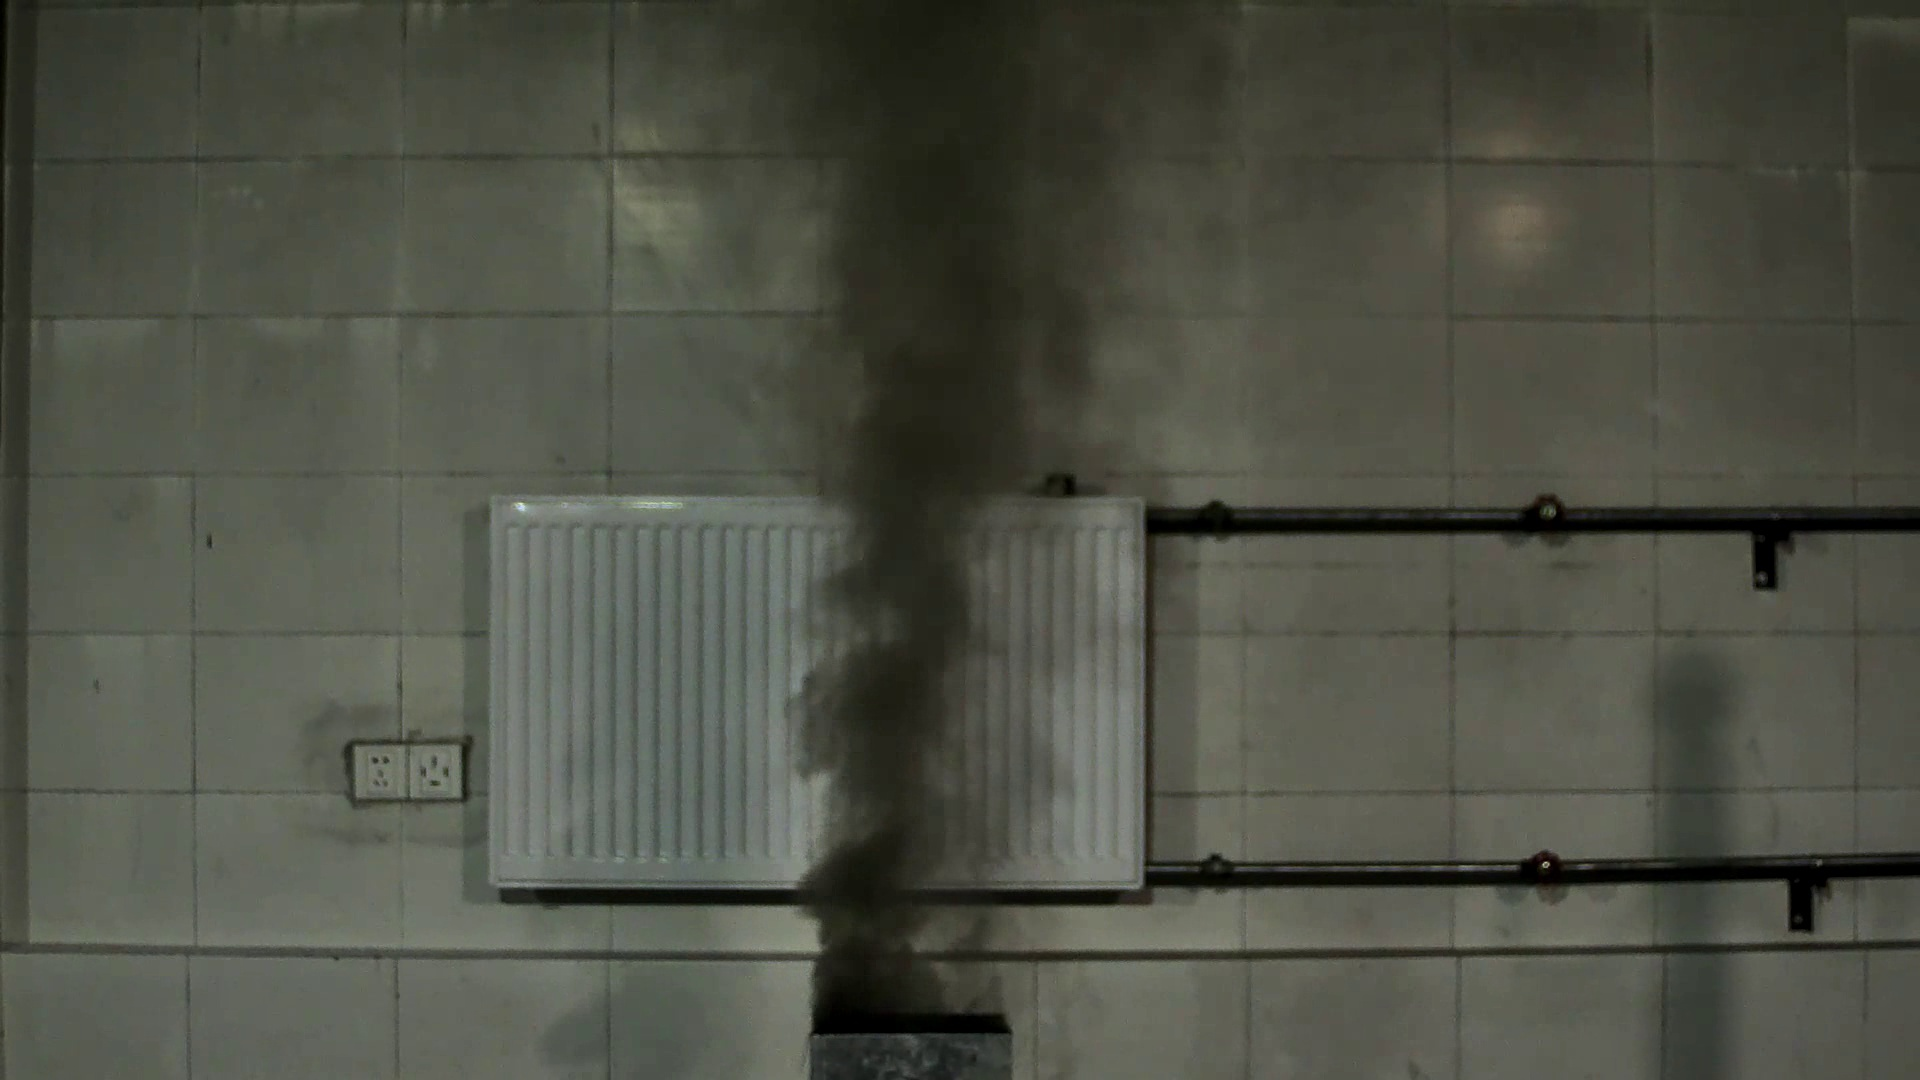smoke: (692, 28, 1108, 1011)
